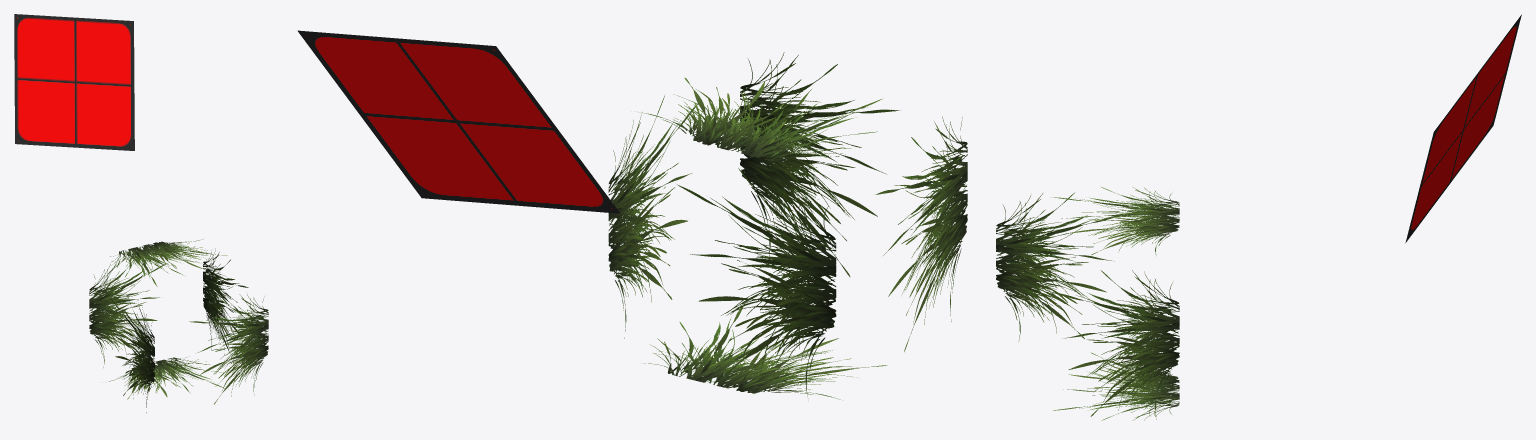
The model's file is normal.obj.
3 renders of one model, left to right at view 1: azimuth 30°, elevation 25°; view 2: azimuth 150°, elevation 25°; view 3: azimuth 270°, elevation 25°, orthographic. The views are drawn at different scales.
Visible parts, largest first — view 1: Plane, Cube_Cube.001; view 2: Cube_Cube.001, Plane; view 3: Cube_Cube.001, Plane.
Part boxes in pixels (left/top/right/bottom): Plane: left=14, top=14, right=134, bottom=150; Cube_Cube.001: left=89, top=239, right=268, bottom=412; Cube_Cube.001: left=608, top=52, right=967, bottom=399; Plane: left=297, top=30, right=620, bottom=213; Cube_Cube.001: left=996, top=187, right=1179, bottom=420; Plane: left=1405, top=14, right=1521, bottom=242.
Size of the model in its own units: 2.76 by 4.41 by 5.73.
